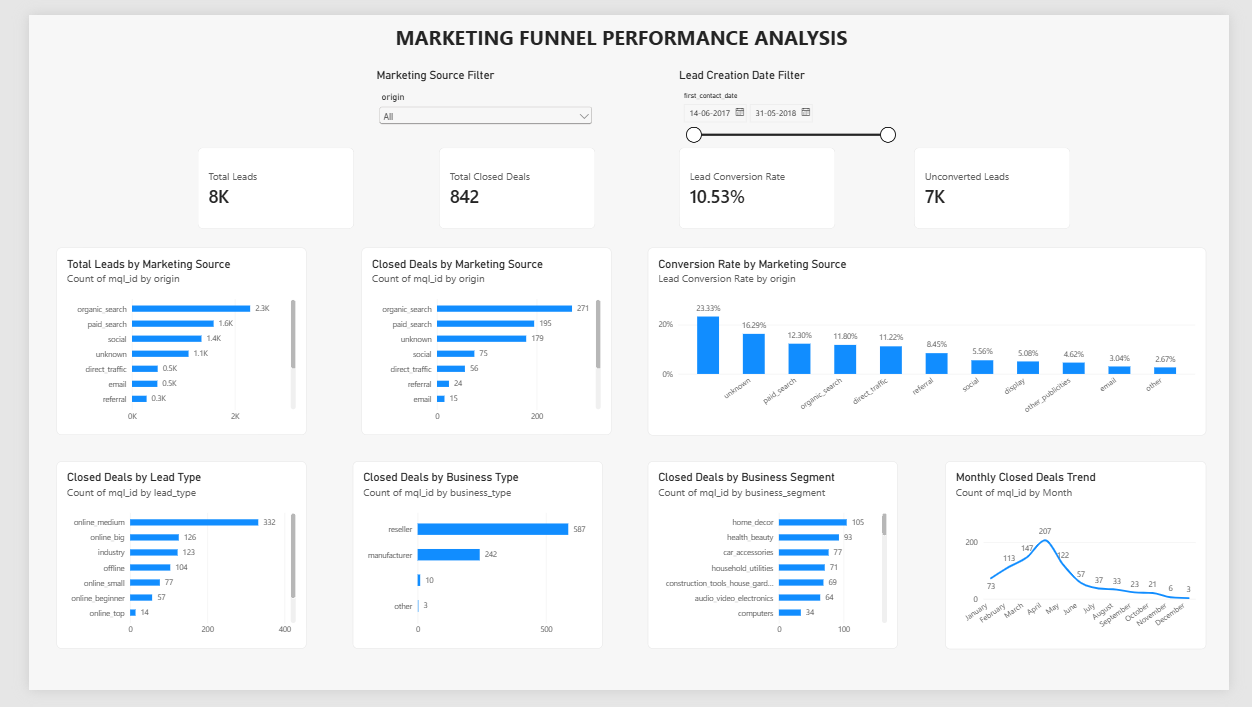

What the dashboard file says about the page in this screenshot:
{"tool":"powerbi","page":{"name":"Page 1","canvas":[1920,1080],"ordinal":0},"visuals":[{"type":"cardVisual","fields":{"Data":["olist_marketing_qualified_leads_dataset.Total Leads"]},"box":[269.6,212,250,130],"z":0},{"type":"cardVisual","fields":{"Data":["olist_closed_deals_dataset.Total Closed Deals"]},"box":[656.6,212,250,130],"z":1},{"type":"cardVisual","fields":{"Data":["olist_marketing_qualified_leads_dataset.Lead Conversion Rate"]},"box":[1039.5,212,250,130],"z":2},{"type":"clusteredBarChart","title":"Total Leads by Marketing Source","fields":{"Category":["olist_marketing_qualified_leads_dataset.origin"],"Y":["Count(olist_marketing_qualified_leads_dataset.mql_id)"]},"box":[43.2,372.6,400,300],"z":3},{"type":"clusteredBarChart","title":"Closed Deals by Marketing Source","fields":{"Category":["olist_marketing_qualified_leads_dataset.origin"],"Y":["Count(olist_closed_deals_dataset.mql_id)"]},"box":[531,372.6,400,300],"z":4},{"type":"clusteredColumnChart","title":"Conversion Rate by Marketing Source","fields":{"Category":["olist_marketing_qualified_leads_dataset.origin"],"Y":["olist_marketing_qualified_leads_dataset.Lead Conversion Rate"]},"box":[990.1,372.6,893.3,300.5],"z":5},{"type":"cardVisual","fields":{"Data":["olist_marketing_qualified_leads_dataset.Unconverted Leads"]},"box":[1416.1,212,250,130],"z":6},{"type":"clusteredBarChart","title":"Closed Deals by Business Type","fields":{"Category":["olist_closed_deals_dataset.business_type"],"Y":["Count(olist_closed_deals_dataset.mql_id)"]},"box":[518.7,714.2,400,300],"z":7},{"type":"clusteredBarChart","title":"Closed Deals by Business Segment","fields":{"Category":["olist_closed_deals_dataset.business_segment"],"Y":["Count(olist_closed_deals_dataset.mql_id)"]},"box":[990.1,714.2,400,300],"z":8},{"type":"clusteredBarChart","title":"Closed Deals by Lead Type","fields":{"Category":["olist_closed_deals_dataset.lead_type"],"Y":["Count(olist_closed_deals_dataset.mql_id)"]},"box":[43.2,714.2,400,300],"z":9},{"type":"lineChart","title":"Monthly Closed Deals Trend","fields":{"Category":["olist_closed_deals_dataset.won_date.Variation.Date Hierarchy.Year","olist_closed_deals_dataset.won_date.Variation.Date Hierarchy.Month"],"Y":["Count(olist_closed_deals_dataset.mql_id)"]},"box":[1465.5,714.2,417.8,300.5],"z":10},{"type":"slicer","title":"Marketing Source Filter","fields":{"Values":["olist_marketing_qualified_leads_dataset.origin"]},"box":[555.7,86.4,350,125.6],"z":11},{"type":"slicer","title":"Lead Creation Date Filter","fields":{"Values":["olist_marketing_qualified_leads_dataset.first_contact_date"]},"box":[1039.5,86.4,350,125.6],"z":12},{"type":"textbox","box":[102.9,14.4,1691.9,63.8],"z":13}]}

Visuals, with their boxes in screenshot pixels (x1, y1, x2, y2), scaled from the page's 1920x1080 canvas onto the 1252x707 screenshot:
cardVisual - olist_marketing_qualified_leads_dataset.Total Leads: bbox=[176, 139, 339, 224]
cardVisual - olist_closed_deals_dataset.Total Closed Deals: bbox=[428, 139, 591, 224]
cardVisual - olist_marketing_qualified_leads_dataset.Lead Conversion Rate: bbox=[678, 139, 841, 224]
"Total Leads by Marketing Source" clusteredBarChart: bbox=[28, 244, 289, 440]
"Closed Deals by Marketing Source" clusteredBarChart: bbox=[346, 244, 607, 440]
"Conversion Rate by Marketing Source" clusteredColumnChart: bbox=[646, 244, 1228, 441]
cardVisual - olist_marketing_qualified_leads_dataset.Unconverted Leads: bbox=[923, 139, 1086, 224]
"Closed Deals by Business Type" clusteredBarChart: bbox=[338, 468, 599, 664]
"Closed Deals by Business Segment" clusteredBarChart: bbox=[646, 468, 906, 664]
"Closed Deals by Lead Type" clusteredBarChart: bbox=[28, 468, 289, 664]
"Monthly Closed Deals Trend" lineChart: bbox=[956, 468, 1228, 664]
"Marketing Source Filter" slicer: bbox=[362, 57, 591, 139]
"Lead Creation Date Filter" slicer: bbox=[678, 57, 906, 139]
textbox: bbox=[67, 9, 1170, 51]
